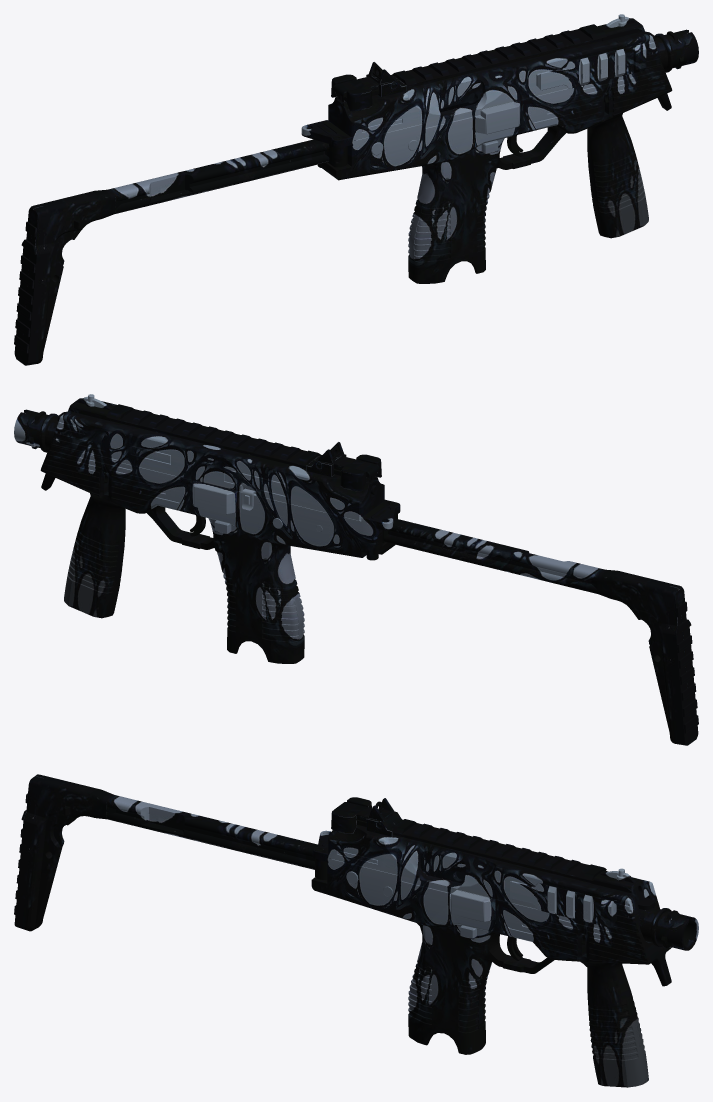
Rendered from w_microsmg_goo.glb.
The picture shows the model from 3 angles, top to bottom: view 1: azimuth 30°, elevation 25°; view 2: azimuth 150°, elevation 25°; view 3: azimuth 330°, elevation 25°; orthographic projection.
Visible parts, largest first — view 1: Gun_Root; view 2: Gun_Root; view 3: Gun_Root.
Boxes of the visible parts, box(x1,y1,x2,y2) form: Gun_Root: box(14, 14, 698, 365); Gun_Root: box(14, 394, 698, 745); Gun_Root: box(14, 774, 698, 1087).
Size of the model in its own units: 0.5974 by 0.1902 by 0.0547.
1 material, 1 textured.
